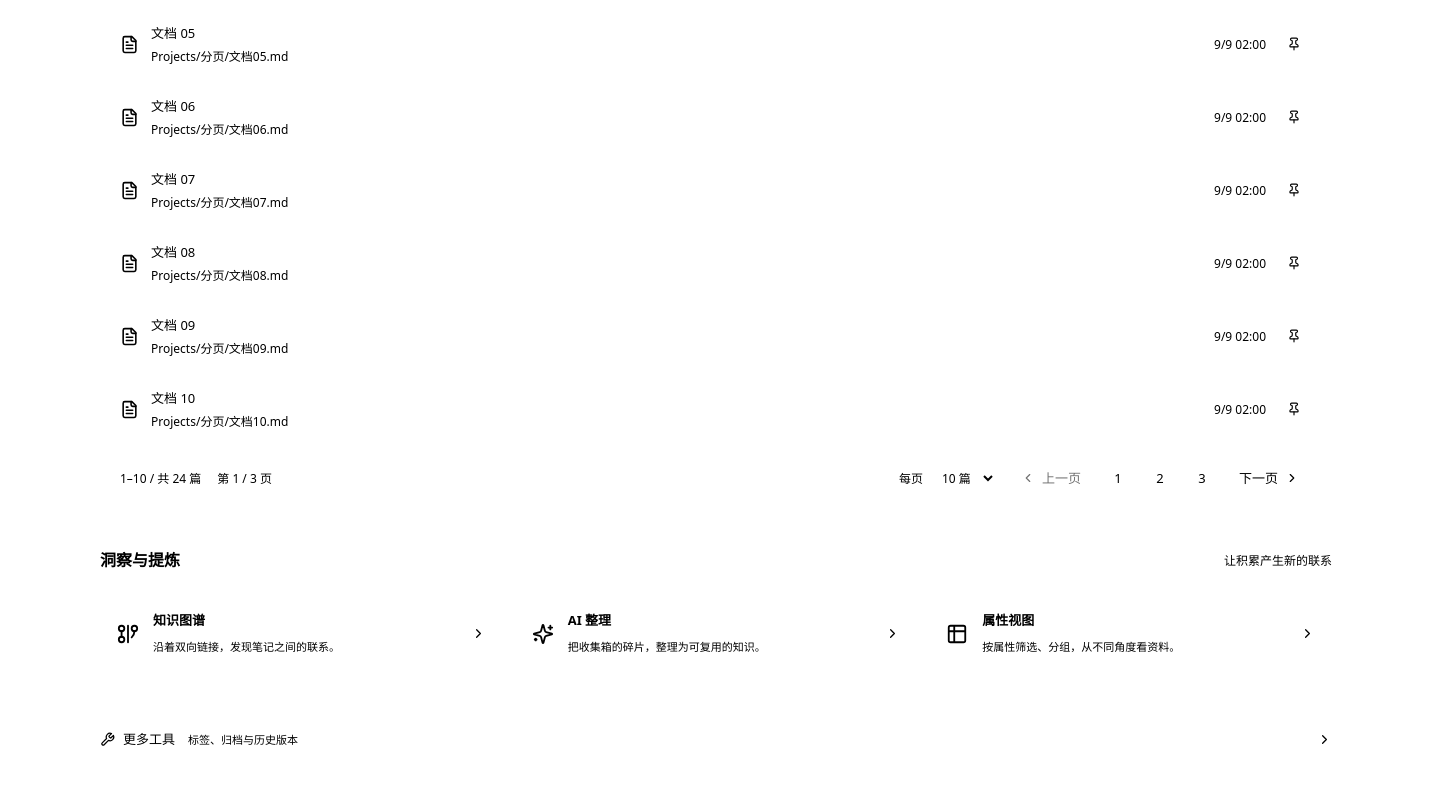
Scenario: KnowledgeVaultView pagination › bounds a 24-document list to ten rows and replaces the rows on each page
(page scrolled)
Expected: the message with test id "vault-pagination-status" shows "1–10", [120,470,201,487]
Expected: the button with aria-label "上一页" is disabled, [1008,460,1094,496]
Click the button with aria-label "下一页".
click(1269, 478)  # box [1226,460,1312,496]
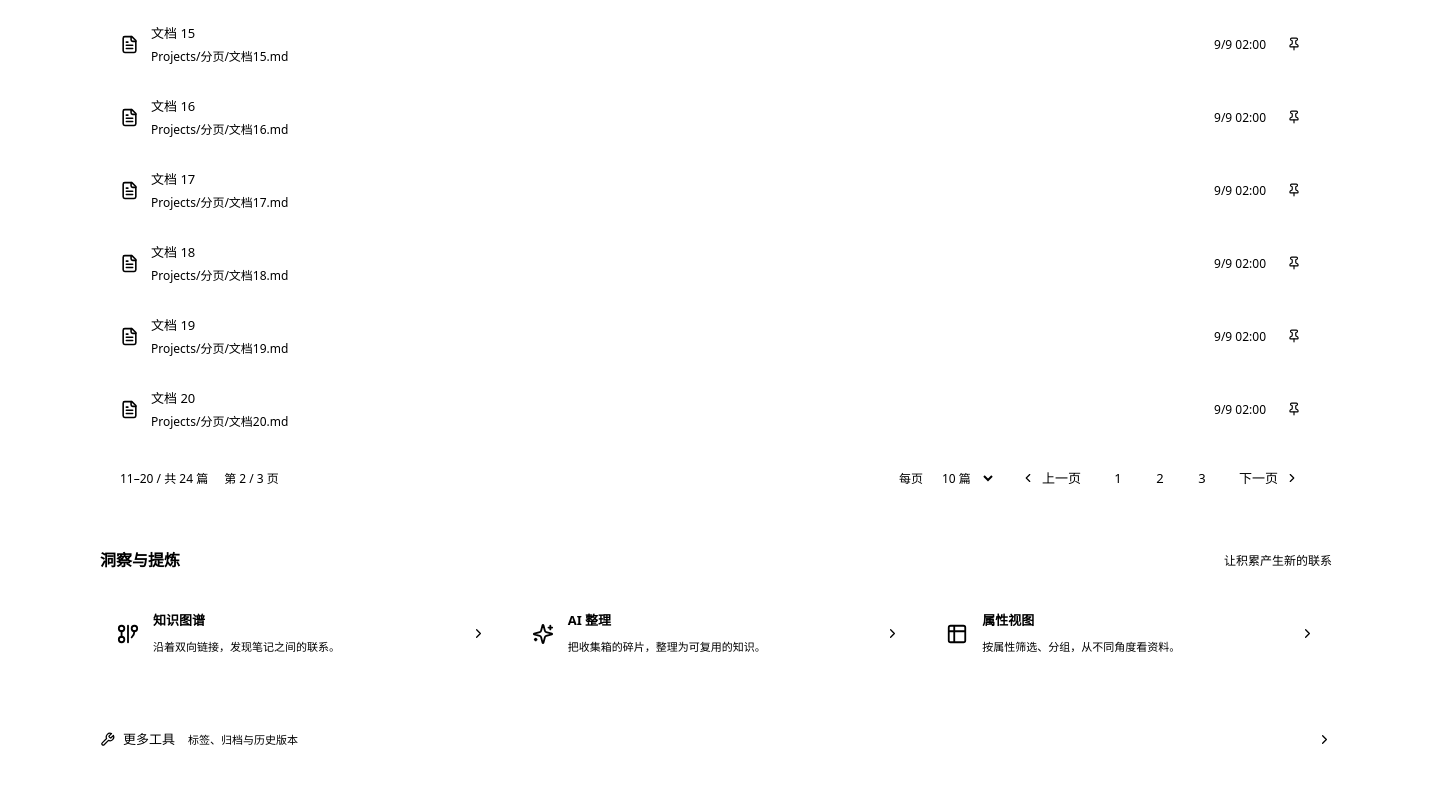
Now the element with test id "vault-document" shows "文档 20", box [120,385,1204,434]
Click the button named "第 3 页".
click(1202, 478)  # box [1184,460,1220,496]
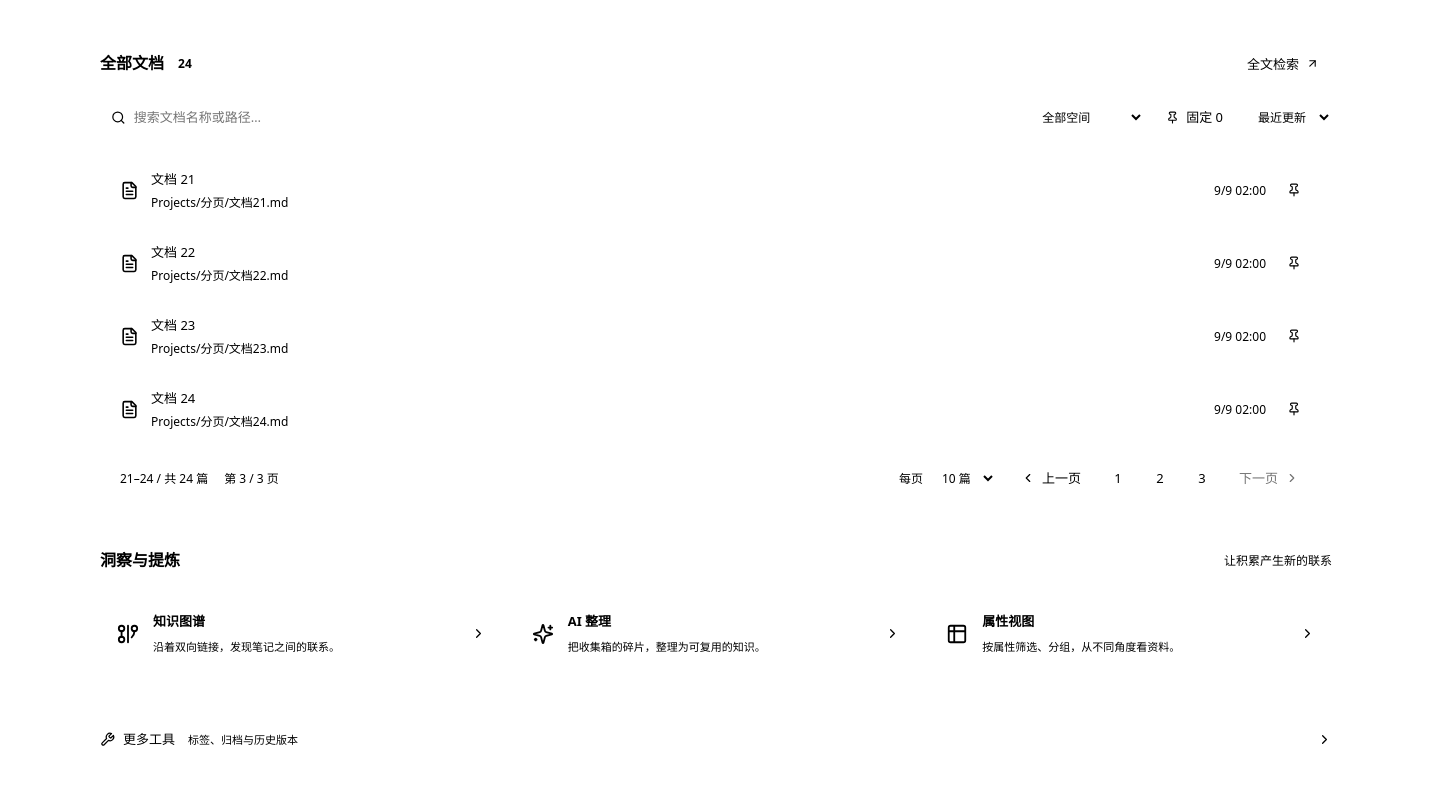
Now the number of elements with test id "vault-document" is 4, box [120,154,1312,227]; [120,227,1312,300]; [120,300,1312,373]; [120,373,1312,446]
Now the message with test id "vault-pagination-status" shows "21–24", box [120,470,208,487]
Now the message with test id "vault-pagination-status" shows "3 / 3", box [224,470,279,487]
Click the button with aria-label "上一页".
click(1051, 478)  # box [1008,460,1094,496]
(page scrolled)
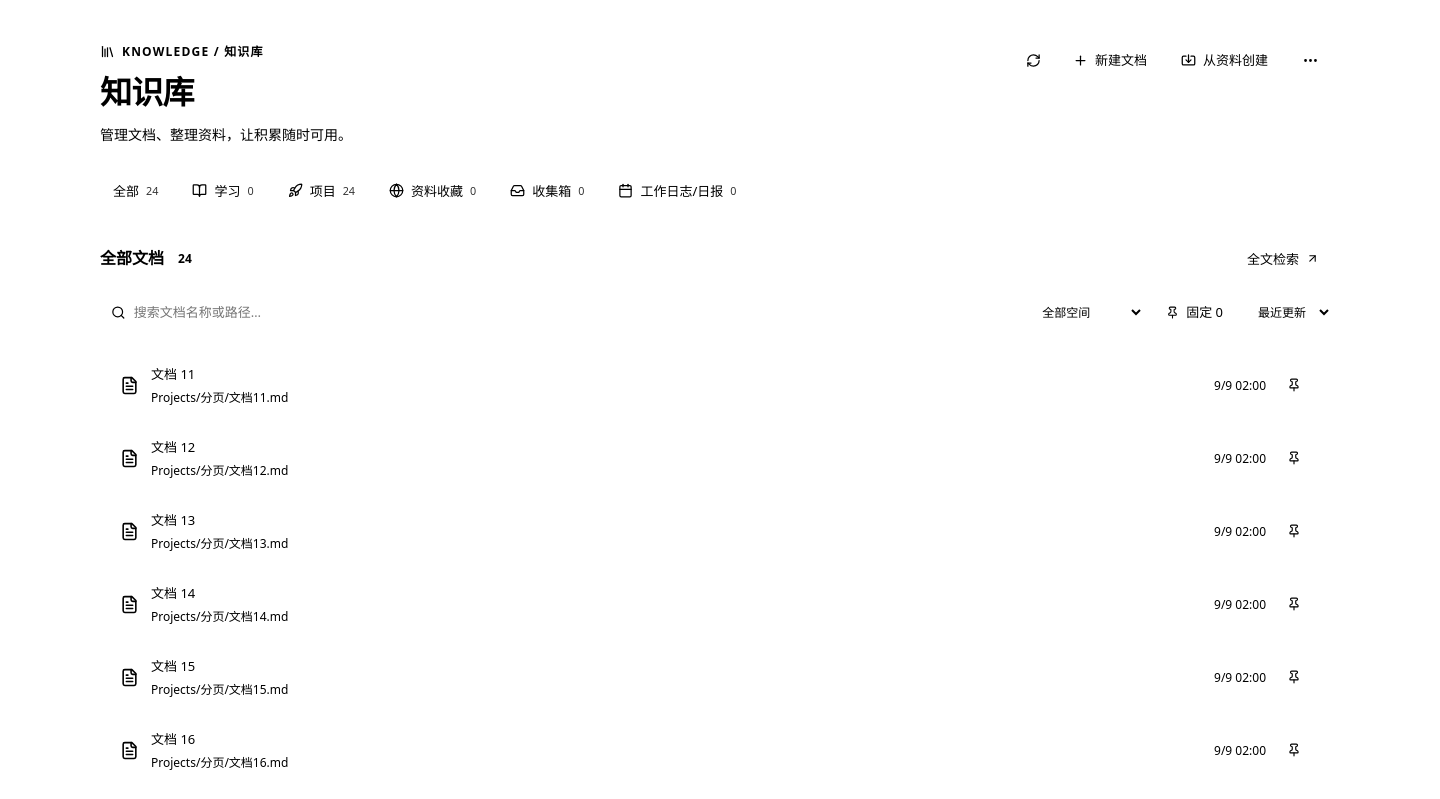
Now the element with test id "vault-document" shows "文档 11", box [120,361,1204,410]
